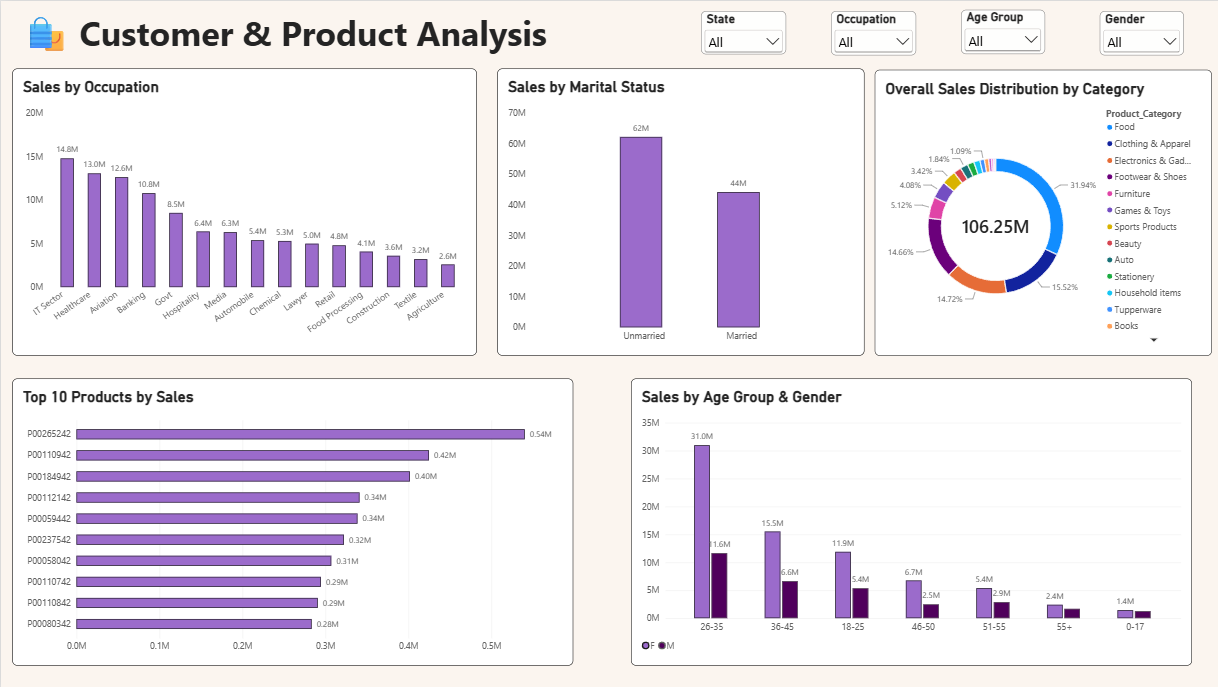

This screenshot's page, from the dashboard's own definition file:
{"tool":"powerbi","page":{"name":"Page 2","canvas":[1920,1080],"ordinal":1},"visuals":[{"type":"textbox","box":[35,14.4,953,88.5],"z":0},{"type":"clusteredColumnChart","title":"Sales by Occupation","fields":{"Category":["Diwali Sales Data.Occupation"],"Y":["Sum(Diwali Sales Data.Amount)"]},"box":[18.5,105,728.6,450.8],"z":1000},{"type":"clusteredColumnChart","title":"Sales by Marital Status","fields":{"Category":["Diwali Sales Data.Marital Status Label"],"Y":["Sum(Diwali Sales Data.Amount)"]},"box":[778,105,576.3,450.8],"z":2000},{"type":"clusteredBarChart","title":"Top 10 Products by Sales","fields":{"Category":["Diwali Sales Data.Product_ID"],"Y":["Sum(Diwali Sales Data.Amount)"]},"box":[18.5,592.8,880,450.8],"z":3000},{"type":"clusteredColumnChart","title":"Sales by Age Group & Gender","fields":{"Category":["Diwali Sales Data.Age Group"],"Series":["Diwali Sales Data.Gender"],"Y":["Sum(Diwali Sales Data.Amount)"]},"box":[988,592.8,880,450.8],"z":4000},{"type":"slicer","fields":{"Values":["Diwali Sales Data.Gender"]},"box":[1722.8,16.5,131.7,70],"z":5000},{"type":"slicer","fields":{"Values":["Diwali Sales Data.Age Group"]},"box":[1506.7,14.4,131.7,70],"z":6000},{"type":"slicer","fields":{"Values":["Diwali Sales Data.State"]},"box":[1097.1,16.5,133.8,67.9],"z":7000},{"type":"slicer","fields":{"Values":["Diwali Sales Data.Occupation"]},"box":[1302.9,16.5,133.8,70],"z":8000},{"type":"donutChart","title":"Overall Sales Distribution by Category","fields":{"Category":["Diwali Sales Data.Product_Category"],"Y":["Sum(Diwali Sales Data.Amount)"]},"box":[1370.8,107,529,448.7],"z":9000}]}

Visuals, with their boxes in screenshot pixels (x1, y1, x2, y2), scaled from the page's 1920x1080 canvas onto the 1218x687 screenshot:
textbox: [22,9,627,65]
"Sales by Occupation" clusteredColumnChart: [12,67,474,354]
"Sales by Marital Status" clusteredColumnChart: [494,67,859,354]
"Top 10 Products by Sales" clusteredBarChart: [12,377,570,664]
"Sales by Age Group & Gender" clusteredColumnChart: [627,377,1185,664]
slicer - Diwali Sales Data.Gender: [1093,10,1176,55]
slicer - Diwali Sales Data.Age Group: [956,9,1039,54]
slicer - Diwali Sales Data.State: [696,10,781,54]
slicer - Diwali Sales Data.Occupation: [827,10,911,55]
"Overall Sales Distribution by Category" donutChart: [870,68,1205,353]
